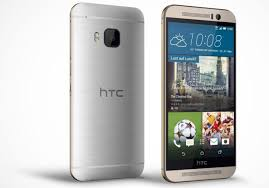htc: (158, 3, 239, 184), (68, 1, 145, 182)
